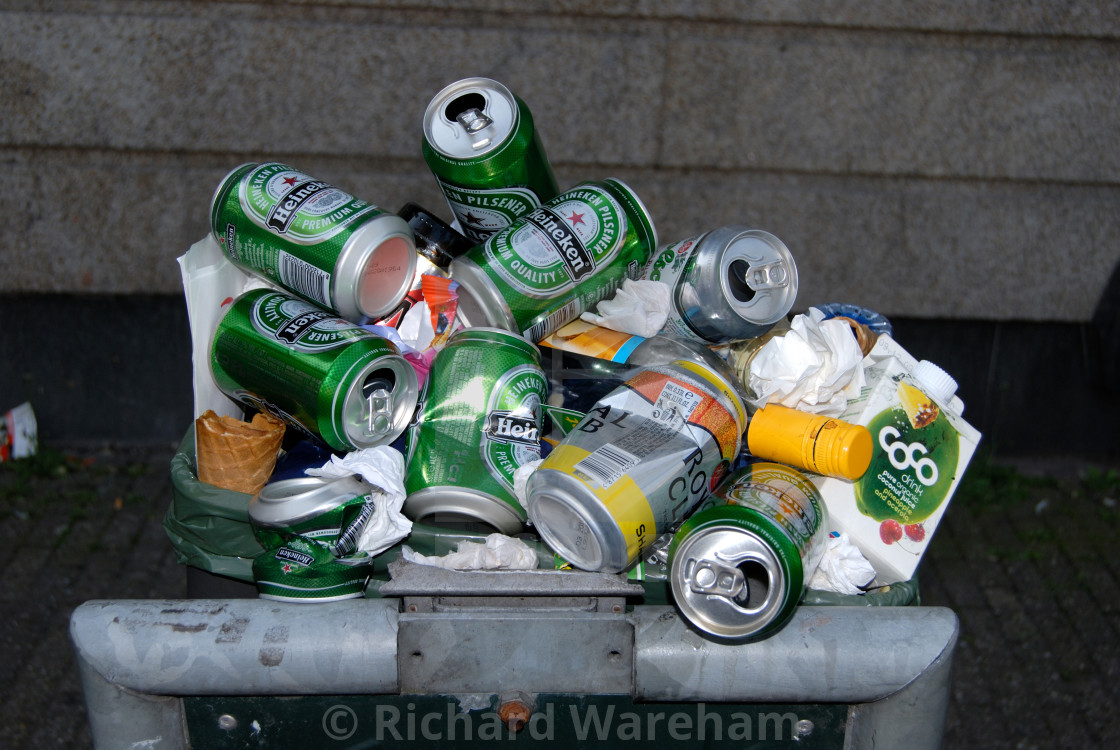can: (529, 357, 741, 567), (201, 137, 421, 323), (208, 286, 435, 454), (403, 309, 551, 555), (455, 178, 666, 329), (409, 64, 565, 229), (680, 216, 810, 351), (677, 503, 799, 643), (239, 472, 369, 598)
